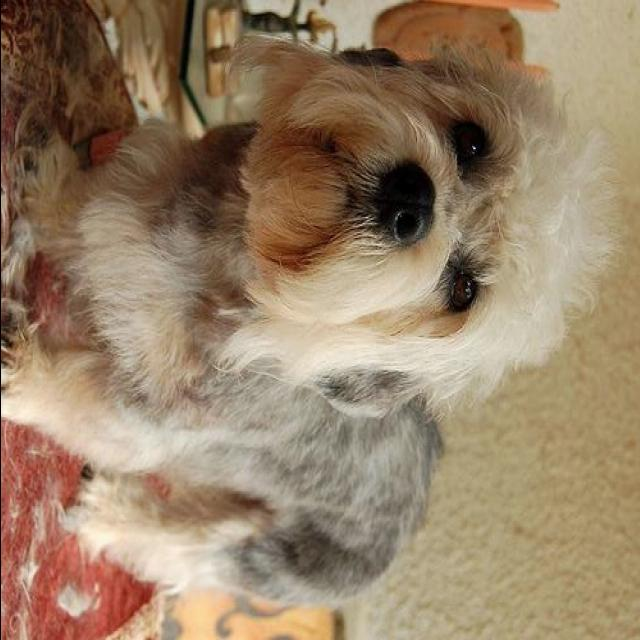dandie_dinmont: (2, 30, 610, 605)
